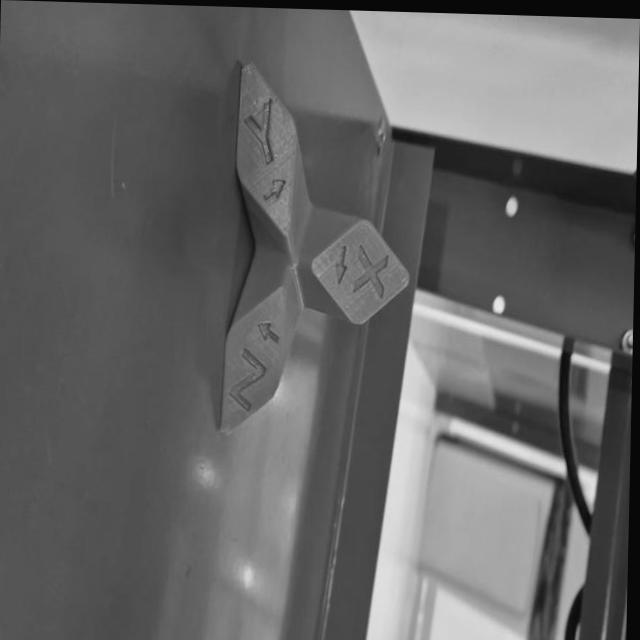eje: (211, 57, 419, 445)
